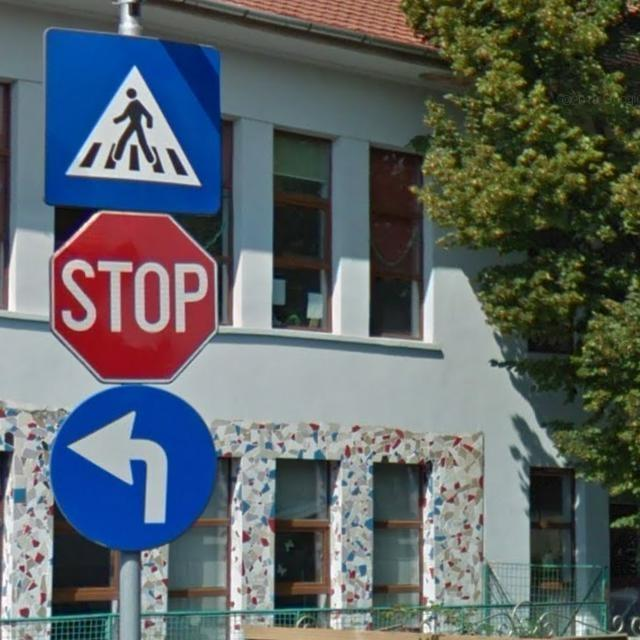info_crosswalk: (38, 28, 223, 214)
prio_stop: (44, 211, 219, 386)
